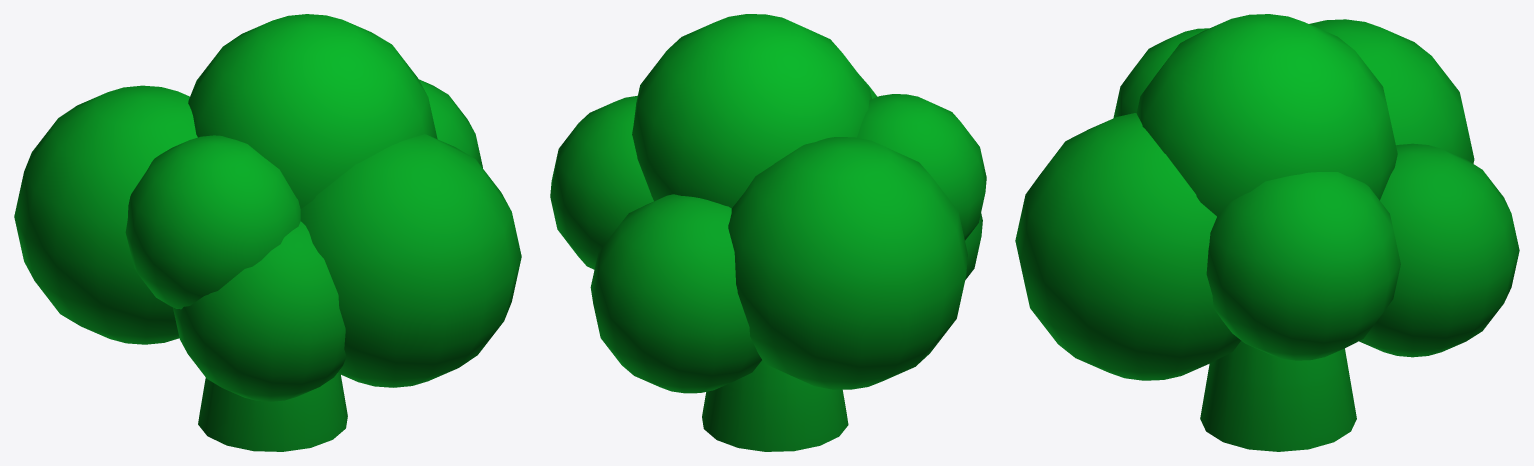
Rendered from Farm_Crop_Broccoli_01.fbx.
3 views of the same model, side by side, from view 1: azimuth 30°, elevation 25°; view 2: azimuth 150°, elevation 25°; view 3: azimuth 270°, elevation 25° (orthographic). The views are drawn at different scales.
Visible parts, largest first — view 1: Farm_Crop_Broccoli_01; view 2: Farm_Crop_Broccoli_01; view 3: Farm_Crop_Broccoli_01.
Boxes of the visible parts, left/top/right/bottom form: Farm_Crop_Broccoli_01: left=14, top=14, right=521, bottom=451; Farm_Crop_Broccoli_01: left=550, top=14, right=986, bottom=451; Farm_Crop_Broccoli_01: left=1015, top=14, right=1519, bottom=451.
Bounding box in the file's own units: 76.91 × 68.97 × 77.46.
